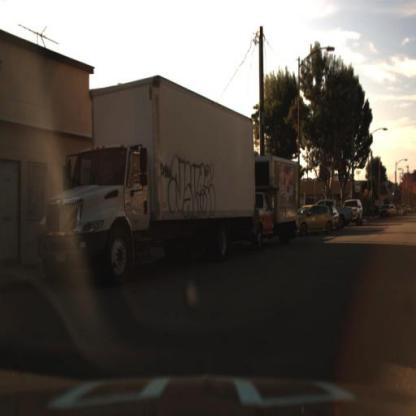car: (298, 202, 335, 236), (295, 203, 335, 234), (351, 196, 367, 226), (339, 201, 355, 226), (378, 203, 390, 221)
truck: (28, 66, 261, 278), (36, 67, 256, 276), (233, 156, 300, 244), (253, 156, 302, 250)
